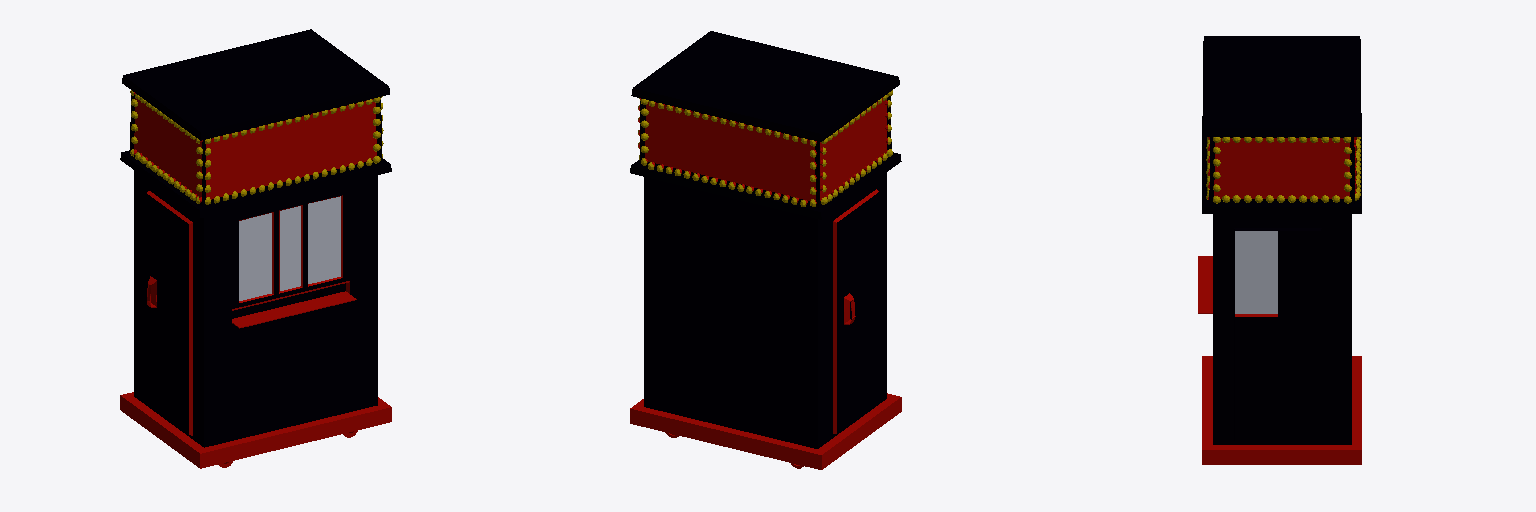
The model's file is bilheteriaobj.obj.
3 renders of one model, left to right at view 1: azimuth 30°, elevation 25°; view 2: azimuth 150°, elevation 25°; view 3: azimuth 270°, elevation 25°, orthographic.
Parts seen in each view (by area): view 1: caseta_ticket; view 2: caseta_ticket; view 3: caseta_ticket.
Boxes of the visible parts, <box> form: caseta_ticket: <box>120,29,391,468</box>; caseta_ticket: <box>630,31,901,469</box>; caseta_ticket: <box>1198,36,1361,464</box>.
Size of the model in its own units: 153 by 262 by 112.